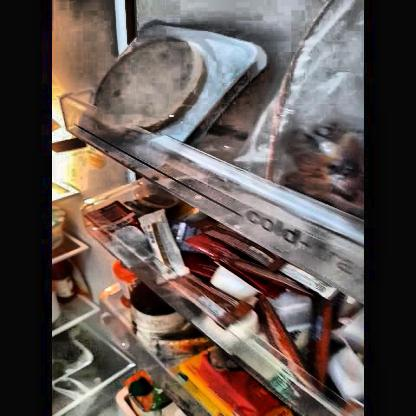salami: (93, 46, 209, 128)
